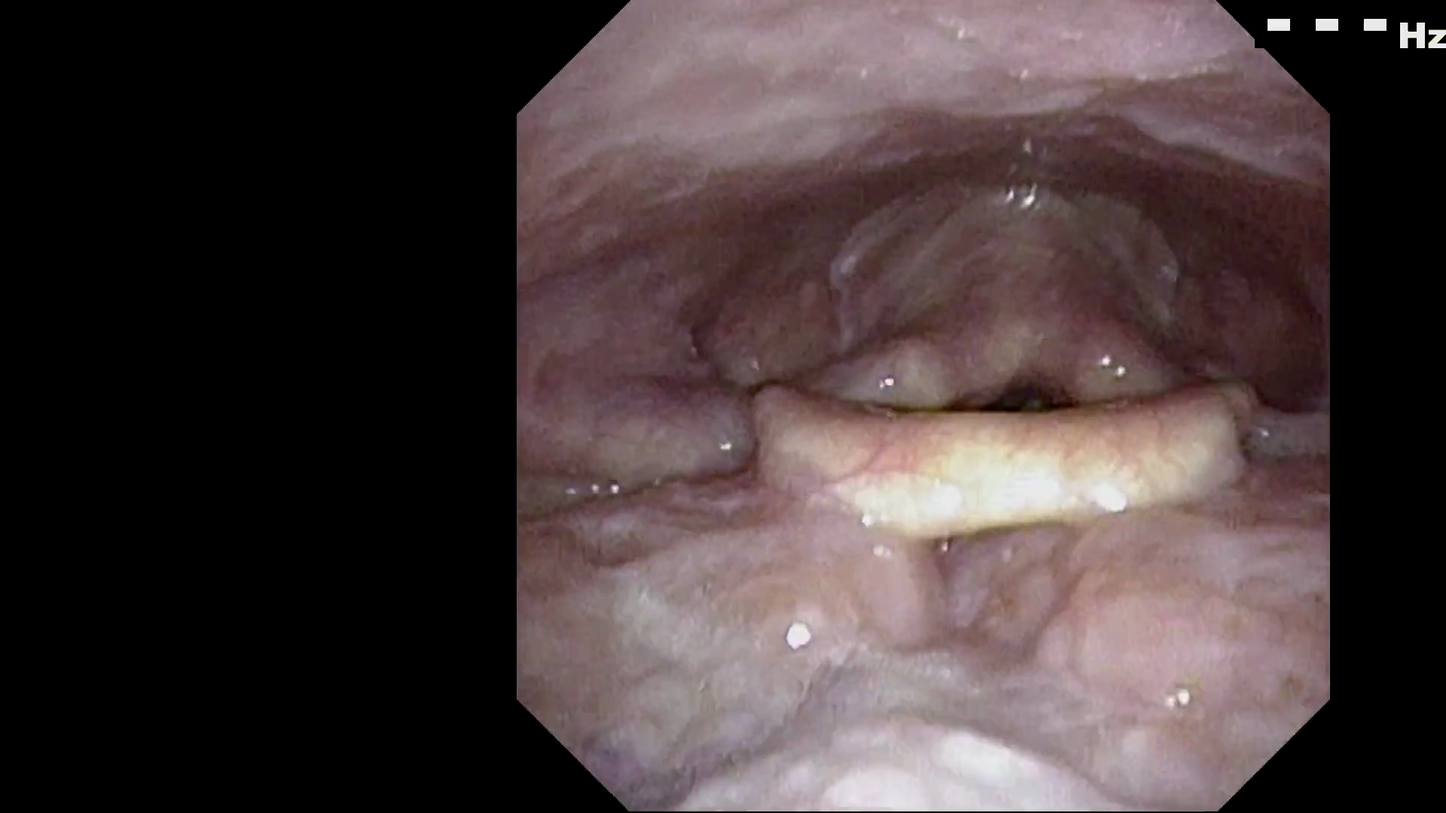epiglottis: (754, 268, 1244, 468)
